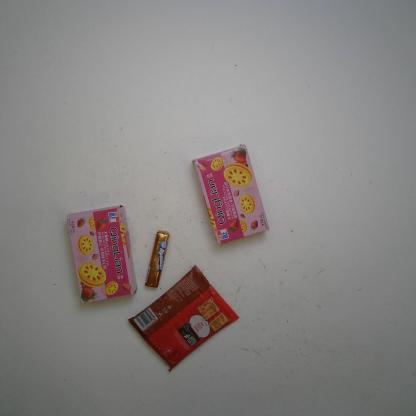Candy: (144, 232, 170, 288)
Dessert: (127, 265, 240, 374), (193, 144, 275, 245), (63, 204, 137, 308)
